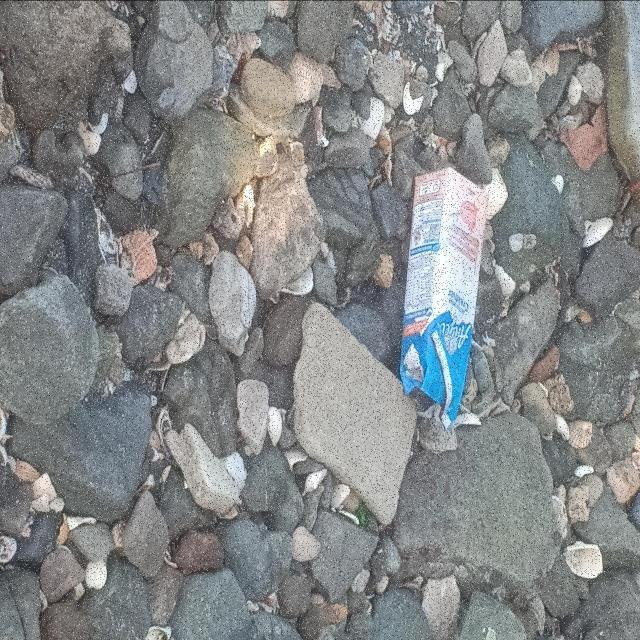cardboard_waste: (402, 167, 491, 431)
